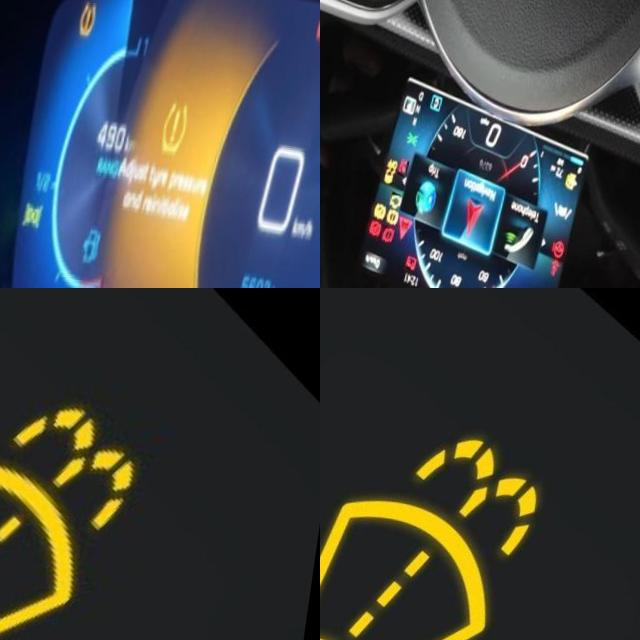Washer Fluid: (320, 423, 553, 640), (0, 388, 150, 640)
